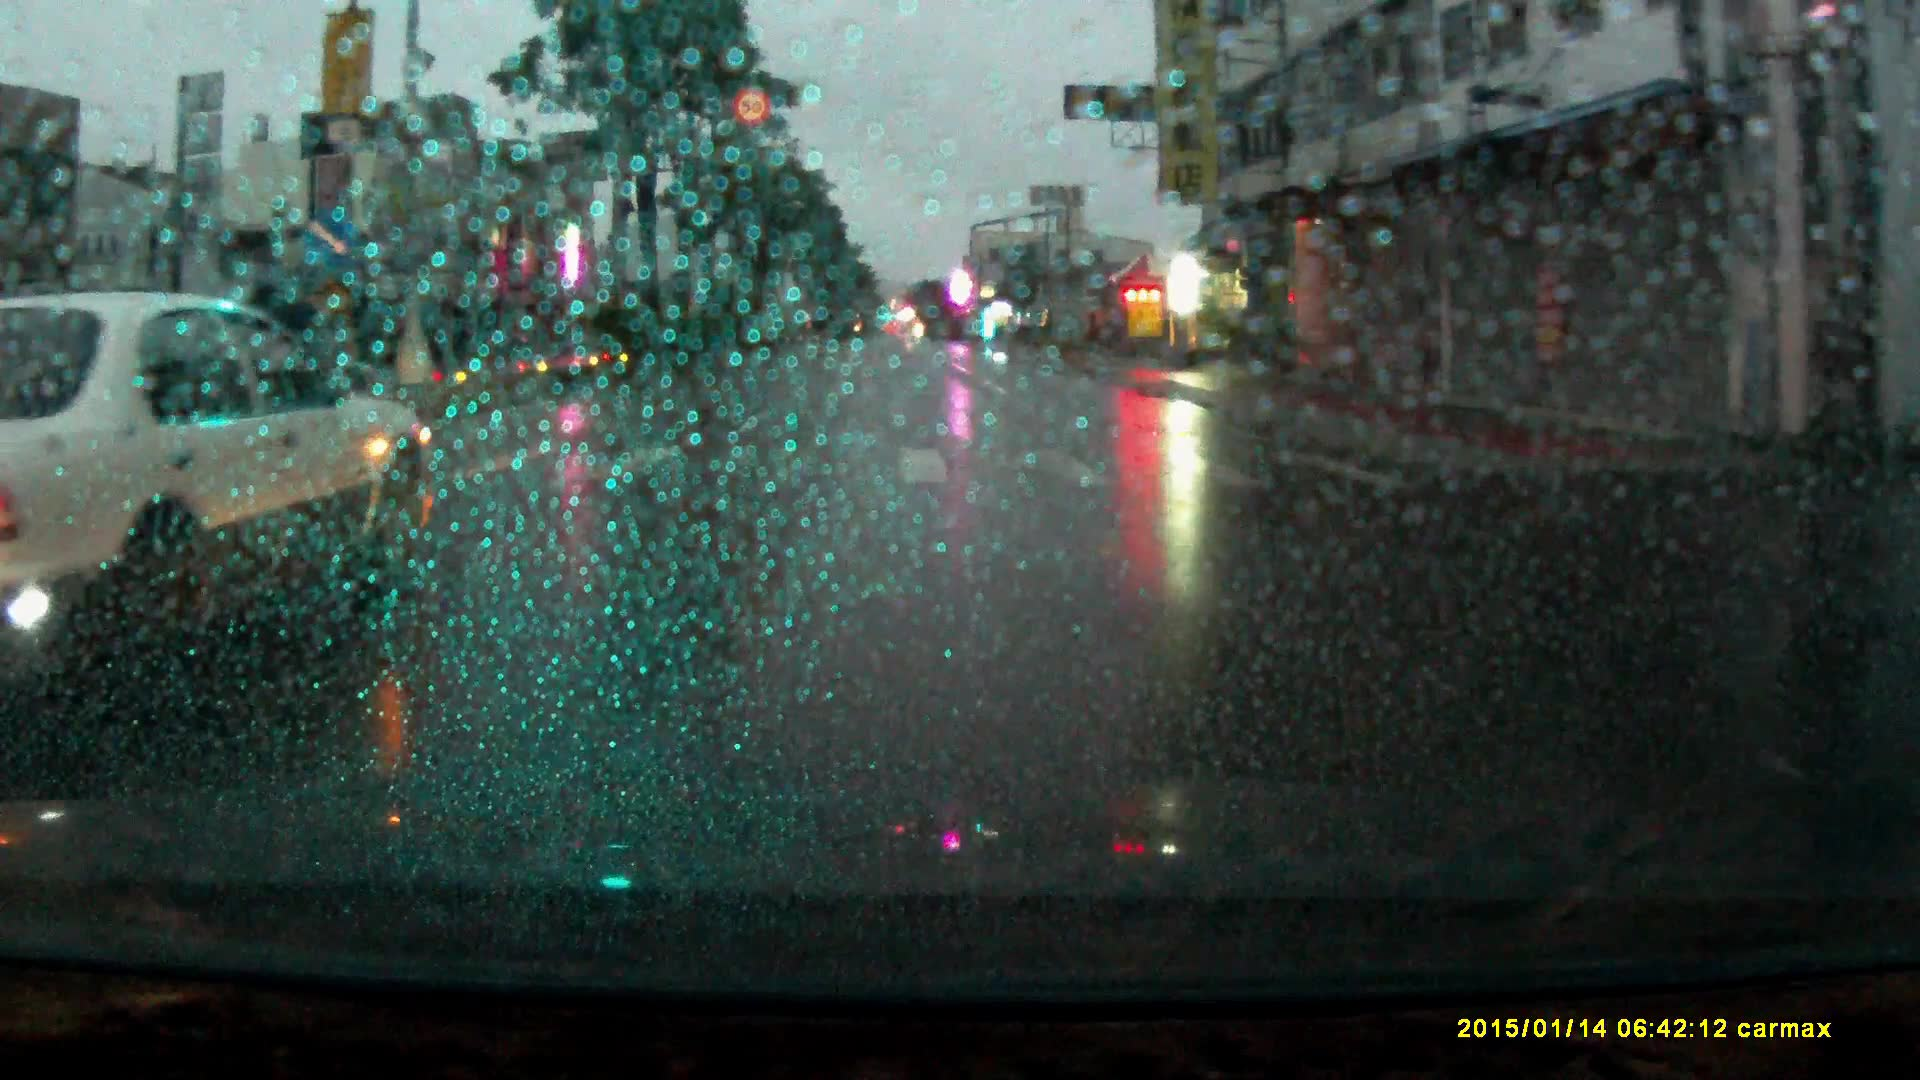vehicle: (1, 291, 444, 674)
